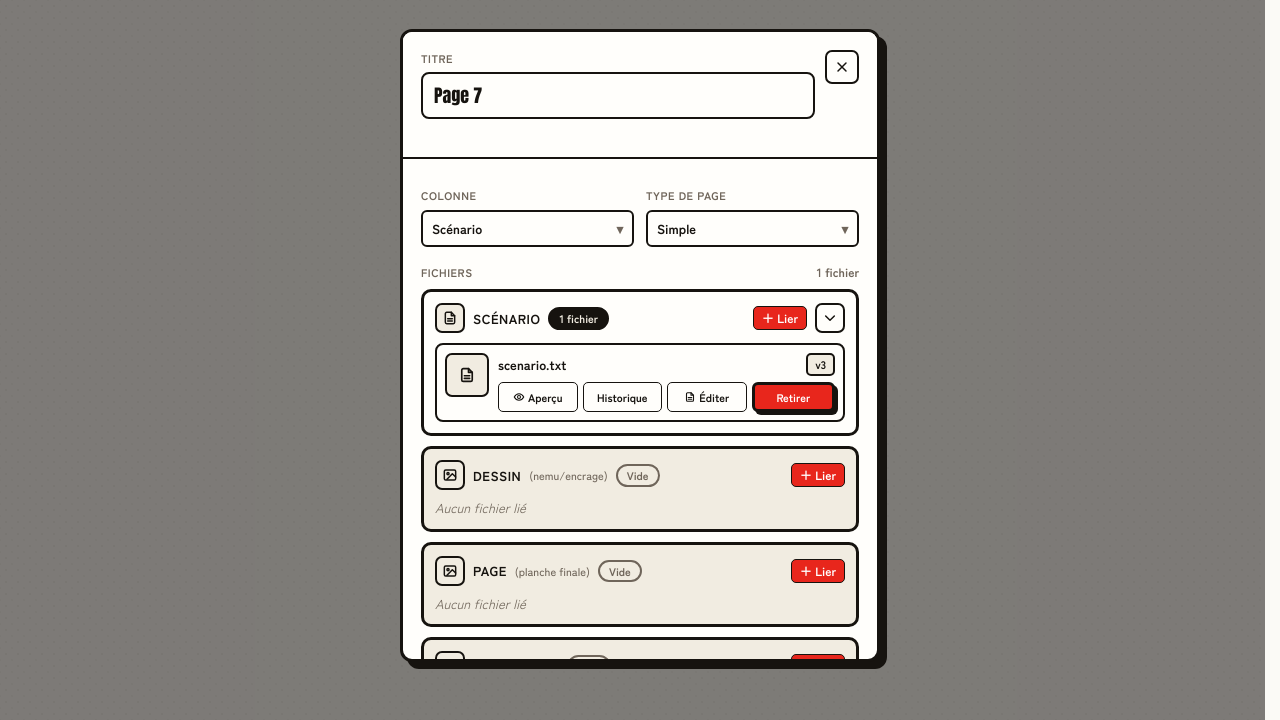
Test: CardModal › collapses and expands a filled section
The width and height of the screenshot is (1280, 720).
Expected: the text "scenario.txt" is shown, [498,355,566,374]
Click the button named "Masquer les fichiers — SCÉNARIO" at (830, 318), box [815,303,845,333]
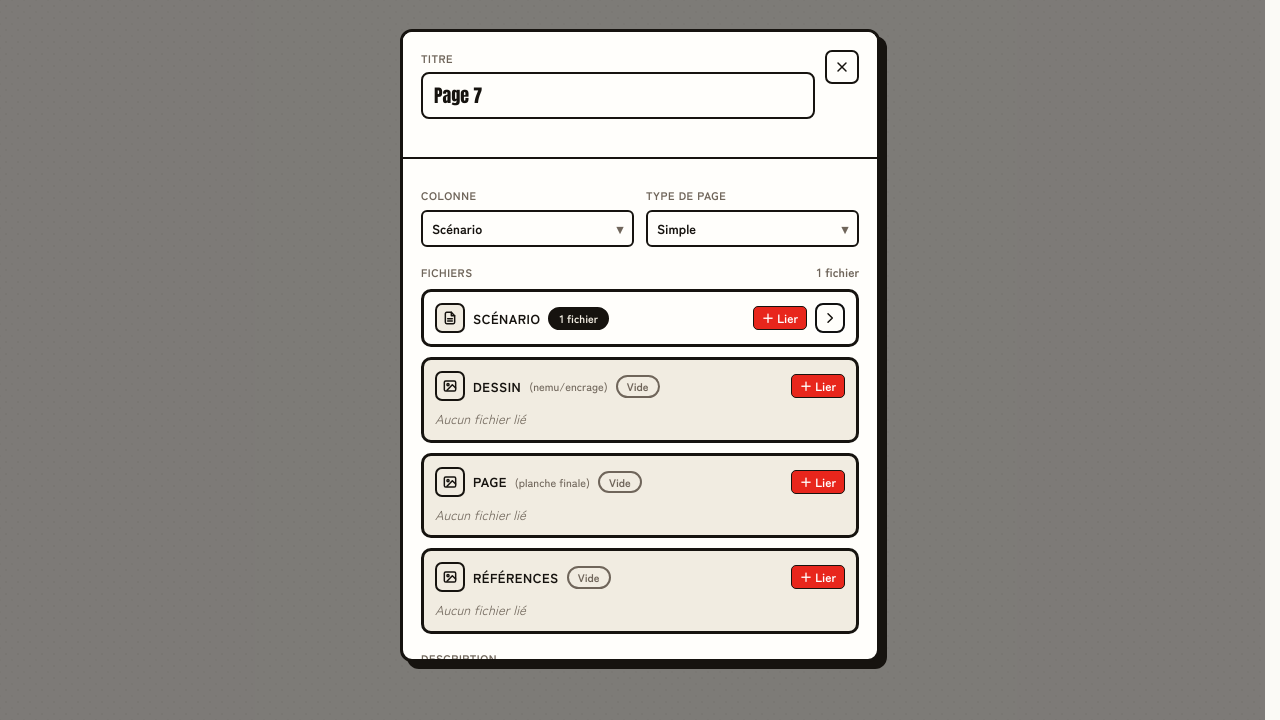
Now the text "scenario.txt" is gone
Now the button named "Afficher les fichiers — SCÉNARIO" is collapsed, box [815,303,845,333]
